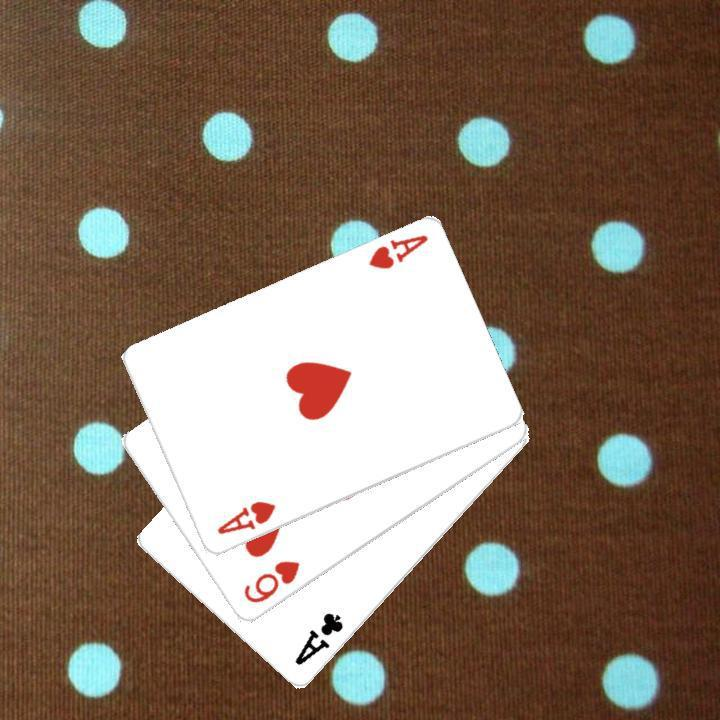6: (239, 556, 302, 606)
A: (290, 608, 346, 668), (364, 230, 430, 272), (212, 497, 278, 537)
